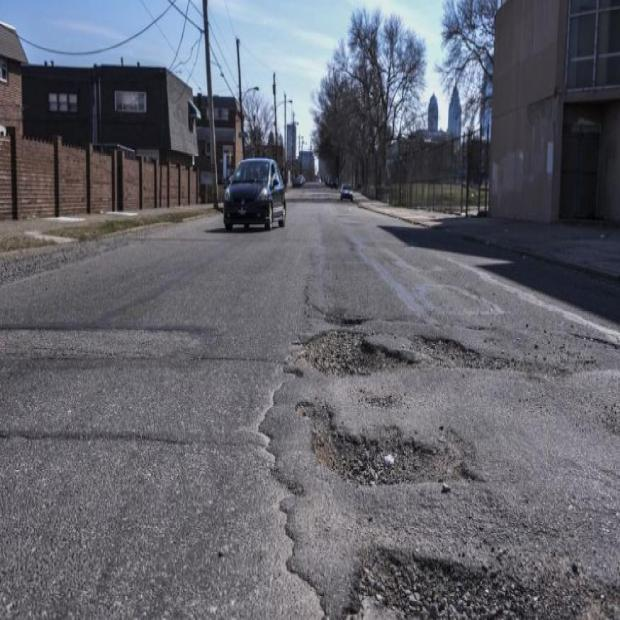lubang: (342, 549, 619, 619), (293, 398, 488, 491), (412, 331, 574, 384), (294, 328, 426, 381), (322, 302, 368, 325)
